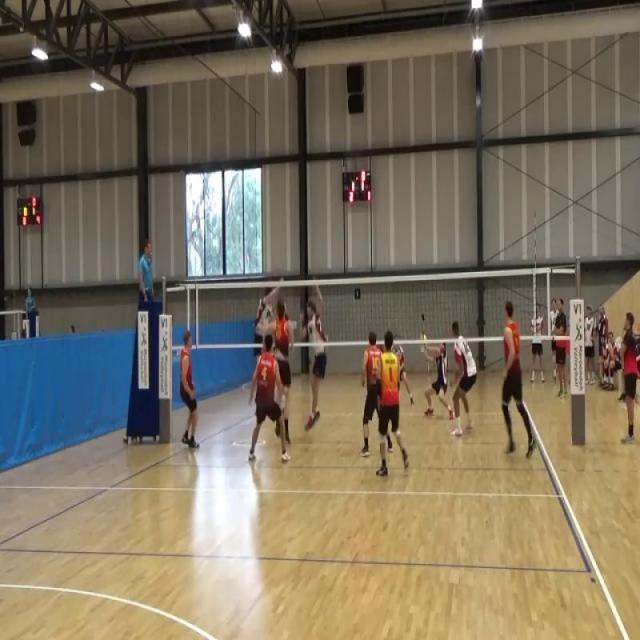volleyball: (419, 334, 427, 341)
